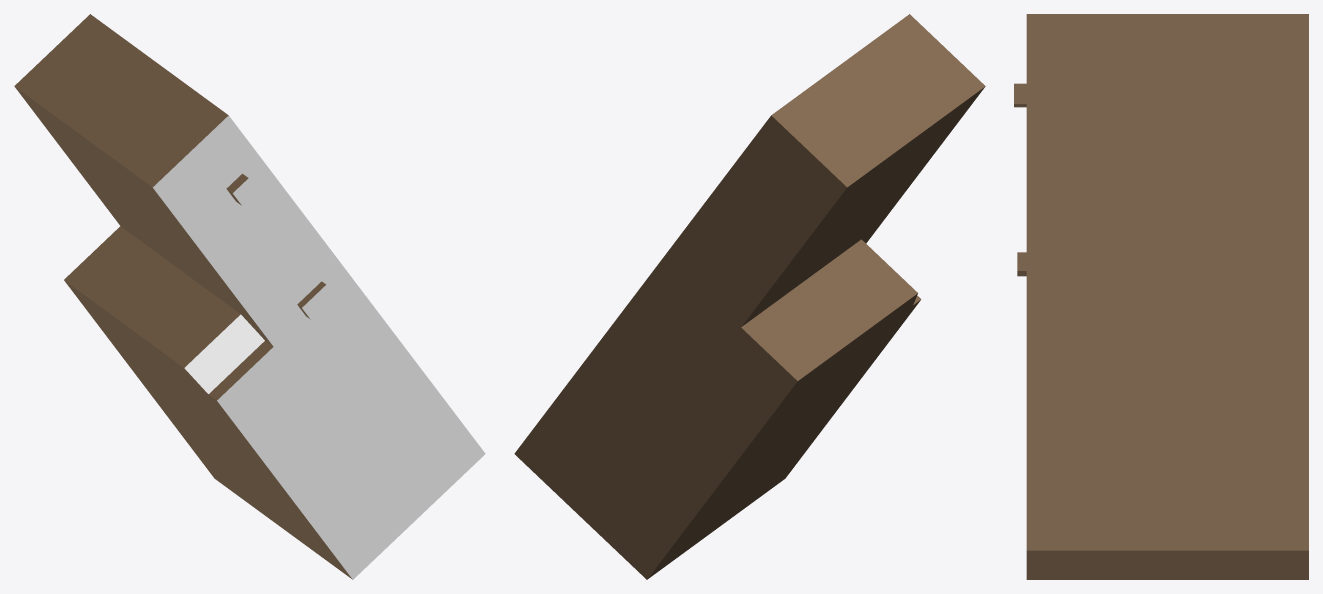
The picture shows the model from 3 angles, left to right: view 1: azimuth 30°, elevation 25°; view 2: azimuth 150°, elevation 25°; view 3: azimuth 270°, elevation 25°; orthographic projection.
Parts seen in each view (by area): view 1: City_PC-08784; view 2: City_PC-08784; view 3: City_PC-08784.
Part boxes in pixels (left/top/right/bottom): City_PC-08784: left=14, top=14, right=485, bottom=579; City_PC-08784: left=514, top=14, right=985, bottom=579; City_PC-08784: left=1014, top=14, right=1308, bottom=579.
Bounding box in the file's own units: 1513 × 2150 × 1139.
